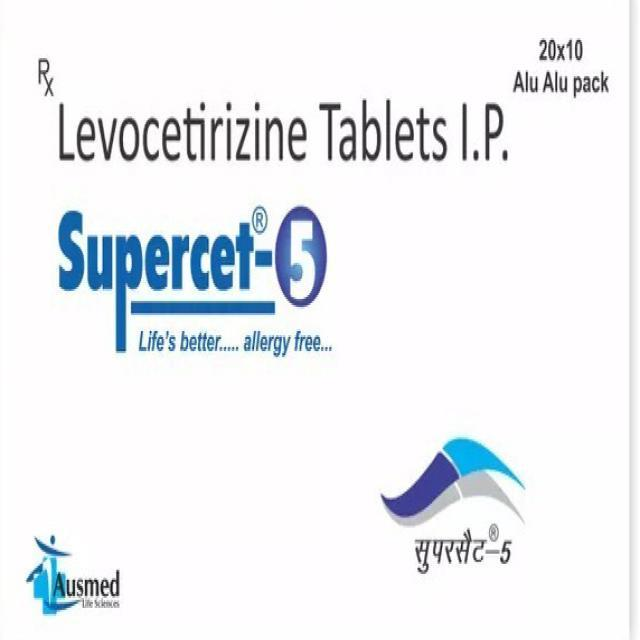drug-name: (48, 207, 337, 361)
